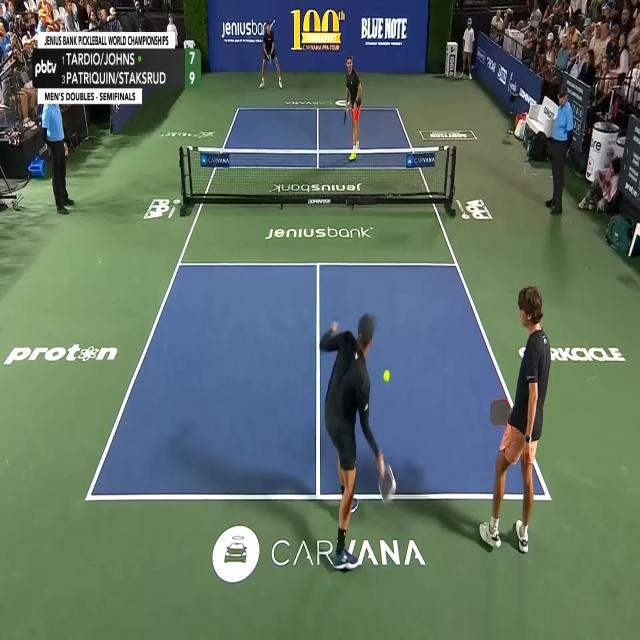ball: (383, 369, 390, 383)
